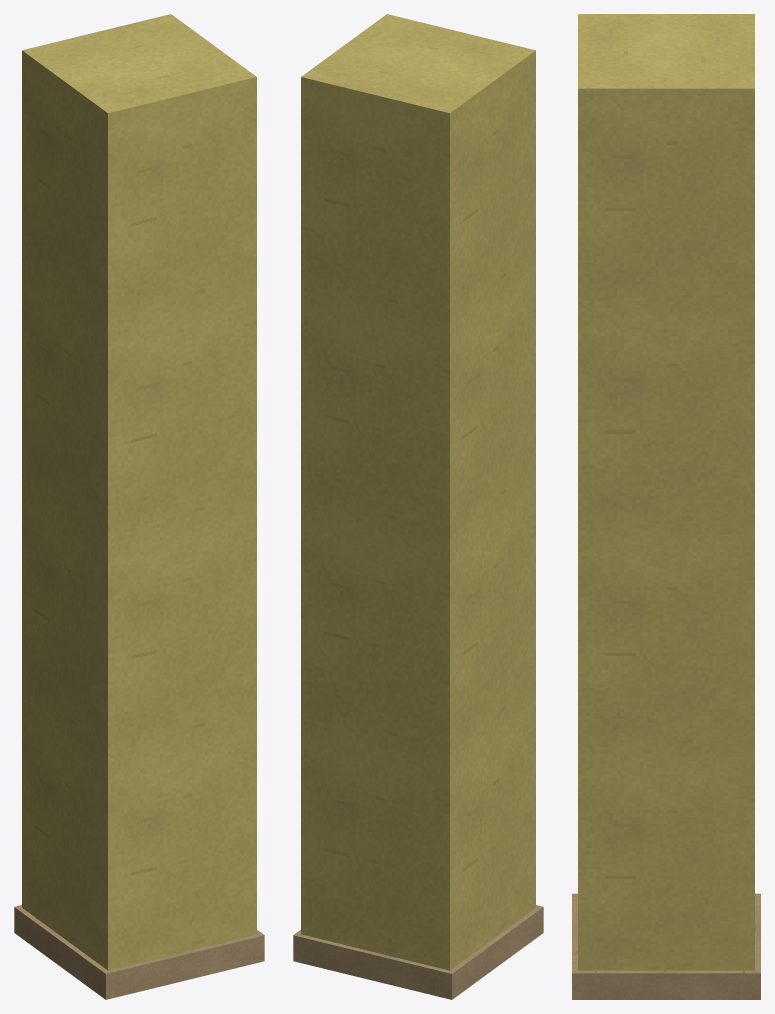
Rendered from tfg_backrooms_pillar.glb.
3 views of the same model, side by side, from view 1: azimuth 30°, elevation 25°; view 2: azimuth 150°, elevation 25°; view 3: azimuth 270°, elevation 25° (orthographic). The views are drawn at different scales.
Parts seen in each view (by area): view 1: tfg_backrooms_pillar; view 2: tfg_backrooms_pillar; view 3: tfg_backrooms_pillar.
Part boxes in pixels (x1=…): tfg_backrooms_pillar: x1=14, y1=14, x2=264, y2=999; tfg_backrooms_pillar: x1=293, y1=14, x2=543, y2=999; tfg_backrooms_pillar: x1=572, y1=14, x2=760, y2=999.
Bounding box in the file's own units: 0.64 × 3.4 × 0.64.
Materials: 2 (2 with a texture image).
